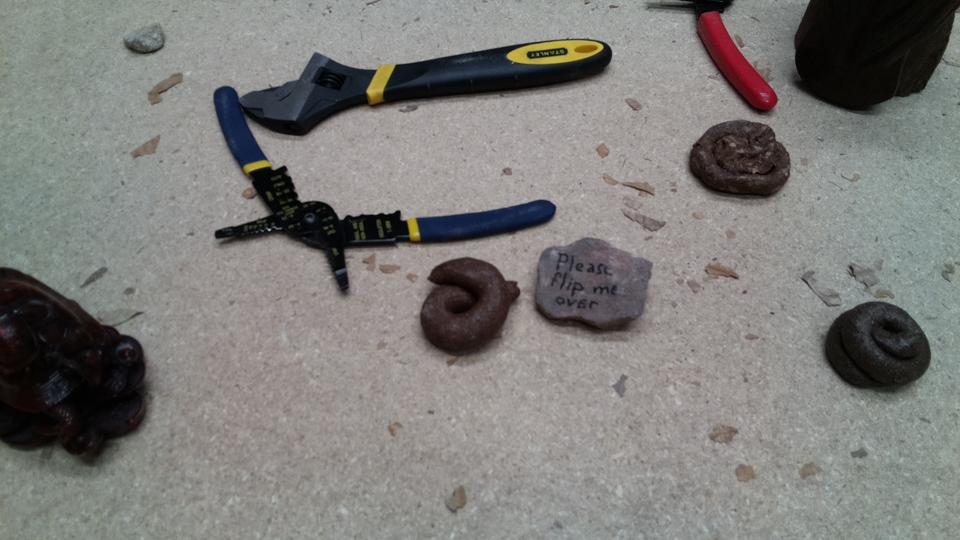poop: (415, 253, 524, 359), (818, 299, 934, 394), (685, 115, 797, 202)
